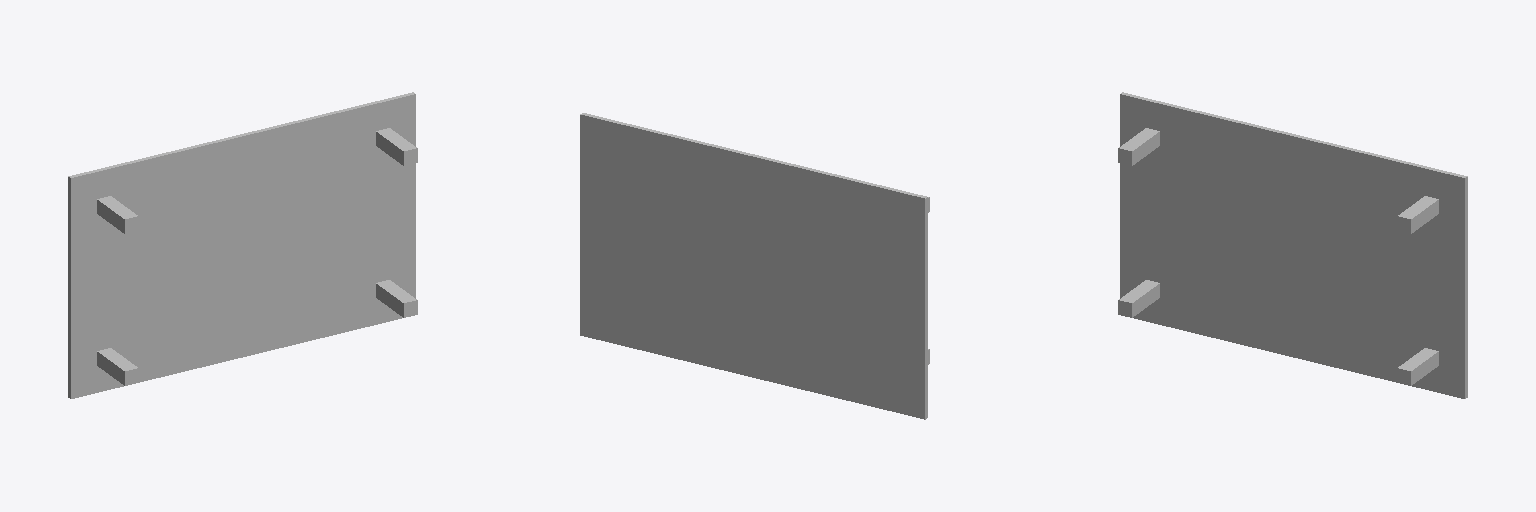
Rendered from random_table19.obj.
3 views of the same model, side by side, from view 1: azimuth 30°, elevation 25°; view 2: azimuth 150°, elevation 25°; view 3: azimuth 330°, elevation 25° (orthographic).
Visible parts, largest first — view 1: Table_Cube.290, TableLeg1_Cube.292, TableLeg2_Cube.293, TableLeg0_Cube.291, TableLeg3_Cube.294; view 2: Table_Cube.290; view 3: Table_Cube.290, TableLeg0_Cube.291, TableLeg3_Cube.294, TableLeg1_Cube.292, TableLeg2_Cube.293.
Boxes of the visible parts, x1,y1,x2,y2 form: Table_Cube.290: [68, 92, 415, 398]; TableLeg1_Cube.292: [97, 196, 138, 233]; TableLeg2_Cube.293: [376, 280, 417, 317]; TableLeg0_Cube.291: [376, 128, 417, 165]; TableLeg3_Cube.294: [97, 348, 138, 385]; Table_Cube.290: [580, 113, 927, 419]; Table_Cube.290: [1120, 92, 1467, 398]; TableLeg0_Cube.291: [1397, 196, 1438, 233]; TableLeg3_Cube.294: [1118, 280, 1159, 317]; TableLeg1_Cube.292: [1118, 128, 1159, 165]; TableLeg2_Cube.293: [1397, 348, 1438, 385].
Size of the model in its own units: 8.52 by 5.22 by 1.3.